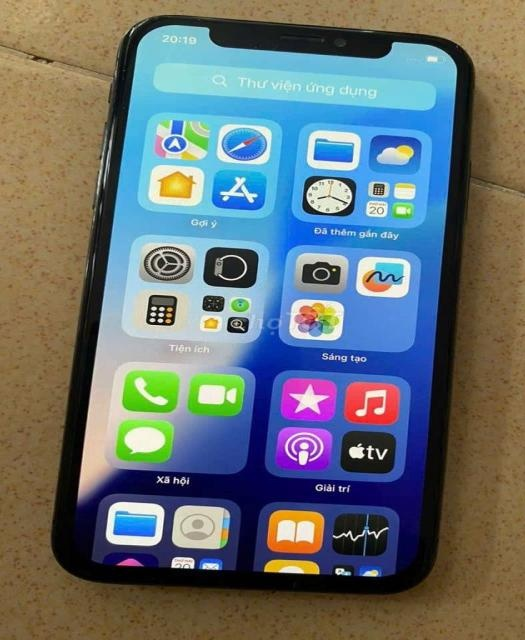scratch: (445, 37, 474, 58)
